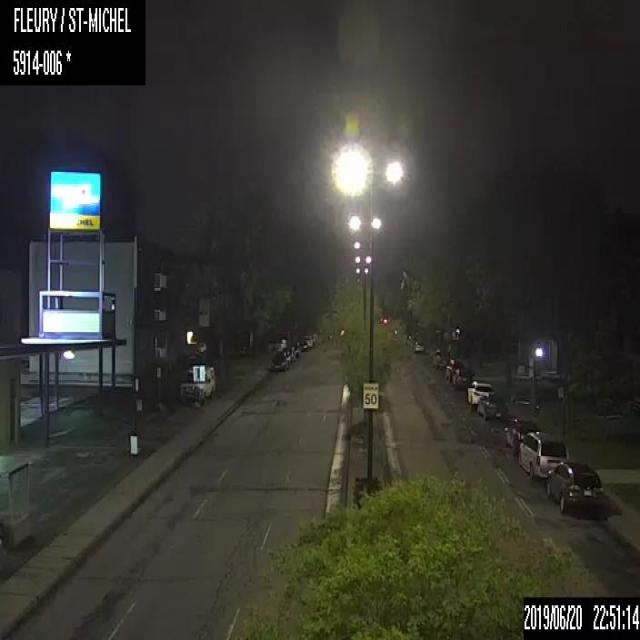vehicle: (547, 459, 603, 512), (514, 428, 568, 479), (178, 365, 217, 406), (502, 413, 538, 451), (474, 393, 508, 419), (465, 378, 493, 404), (451, 367, 472, 387), (444, 358, 459, 381), (270, 348, 285, 371), (413, 336, 427, 352)
